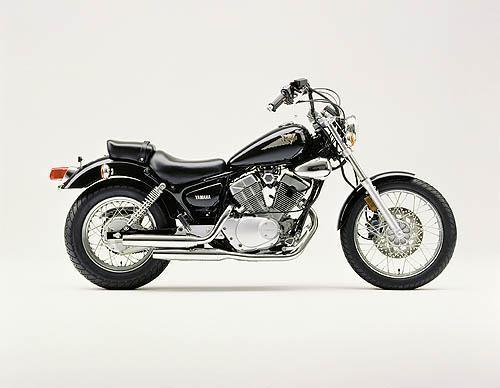motorcycle: (39, 77, 469, 305)
